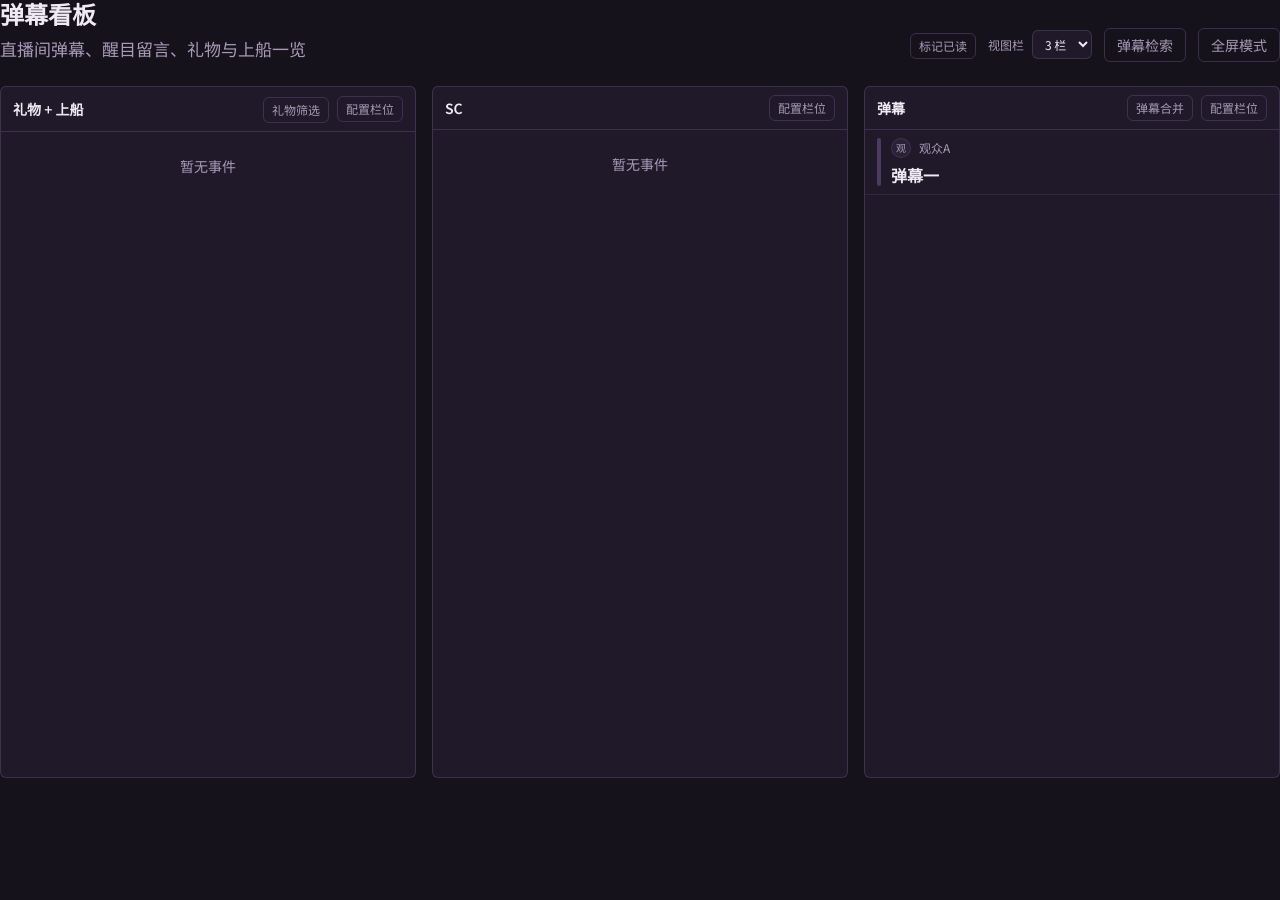
DanmakuPage 全屏模式 › 再次点击退出全屏，恢复页头按钮
Click the button "全屏模式": (1239, 44) [1198,28,1279,62]
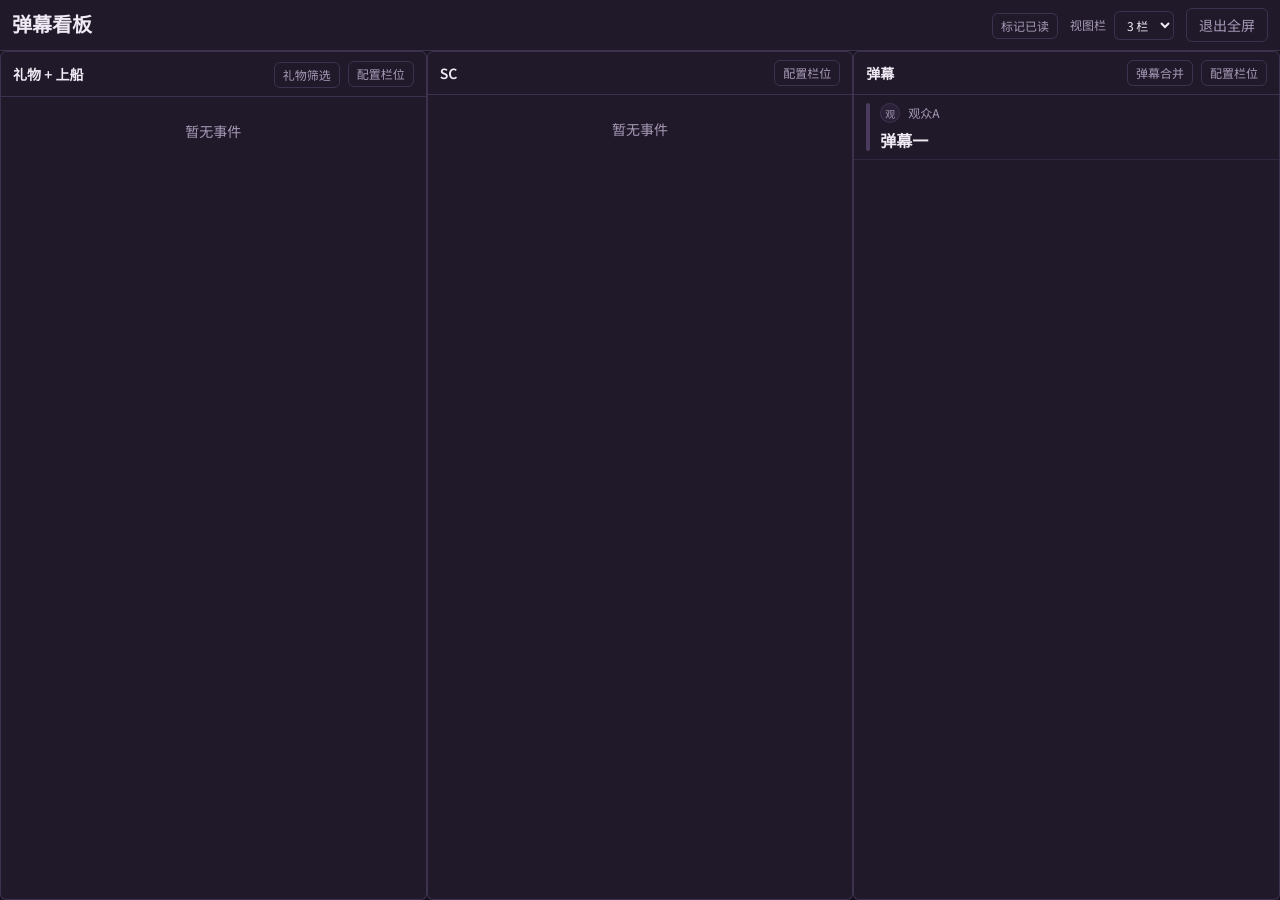
Click the button "退出全屏": (1227, 25) [1186,8,1268,42]
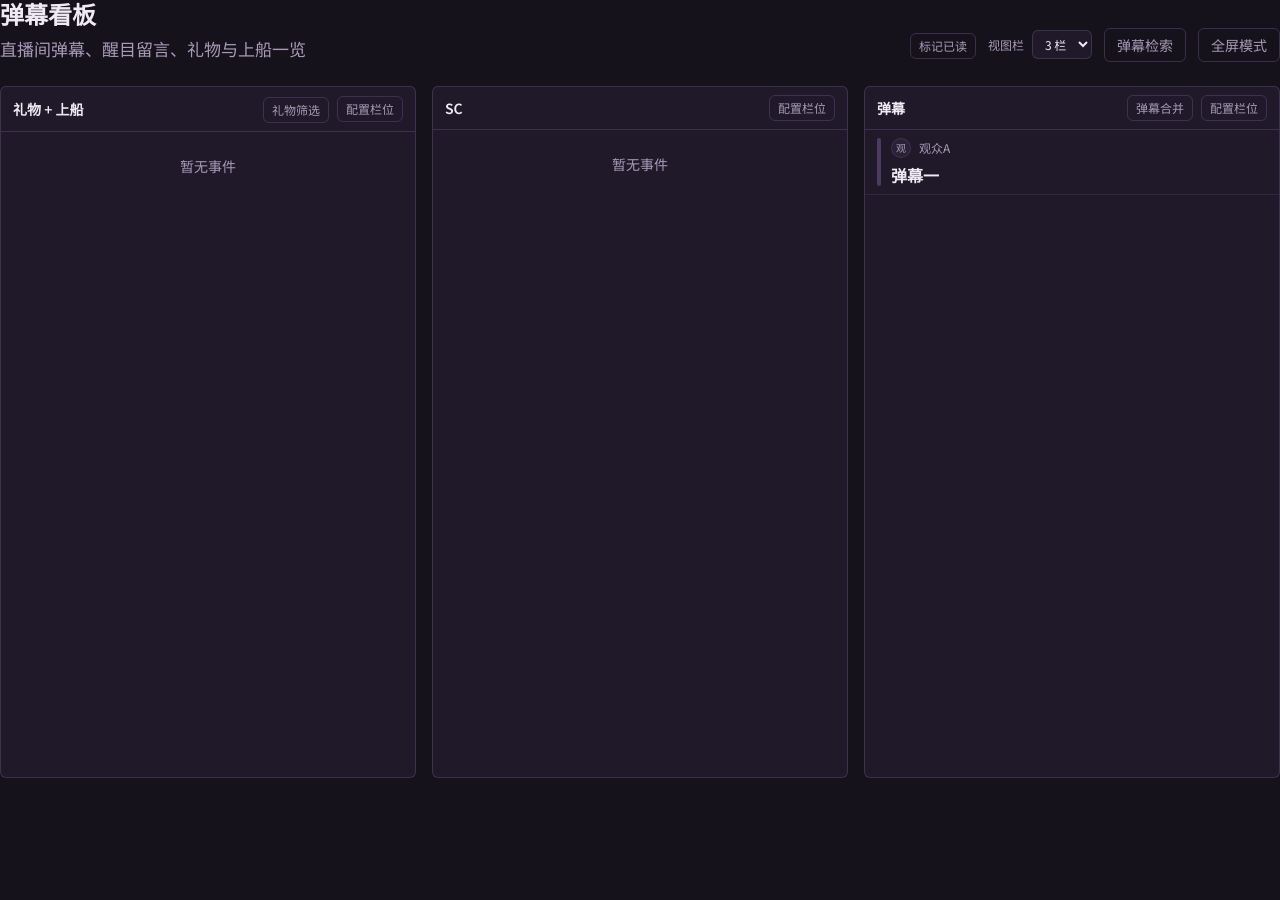
Now the button "全屏模式" is shown, box [1198,28,1279,62]
Now the element with test id "danmaku-fullscreen" is gone
